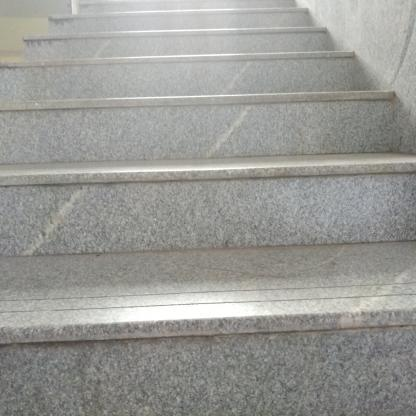stairs: (1, 92, 400, 346)
